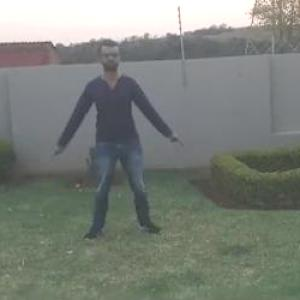land: (38, 30, 179, 265)
